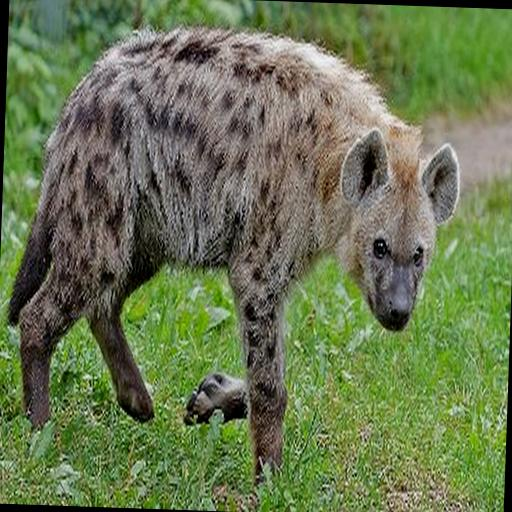hyenas: (20, 0, 490, 506)
